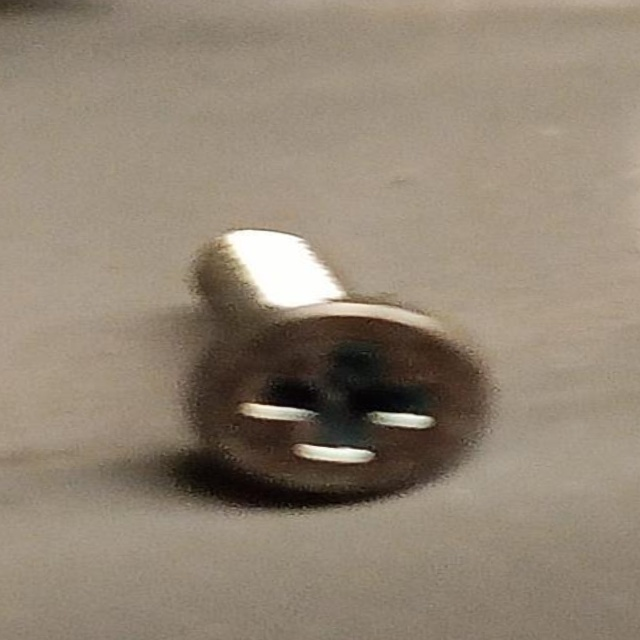phillips: (181, 300, 497, 507)
